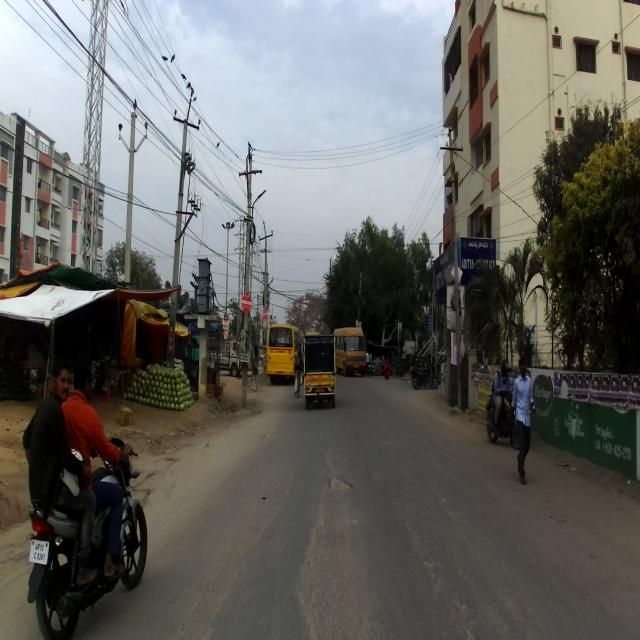electric pole ahead at: (240, 135, 259, 383)
motorcycle ahead at: (27, 438, 149, 627)
person ahead at: (515, 356, 537, 486)
